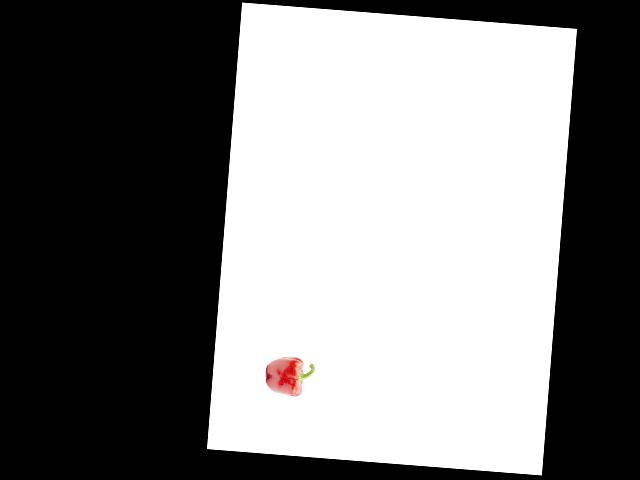bell_pepper: (261, 352, 317, 400)
